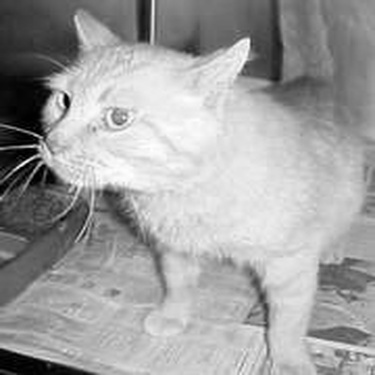cat: (36, 9, 367, 372)
